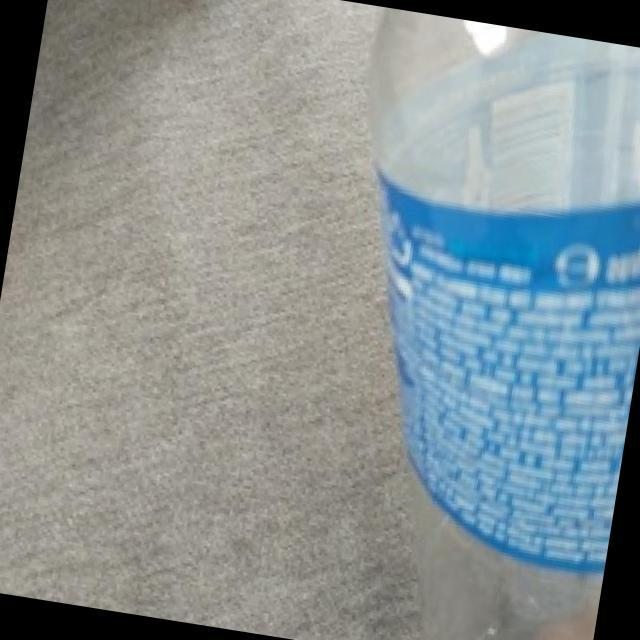good: (269, 4, 640, 640)
